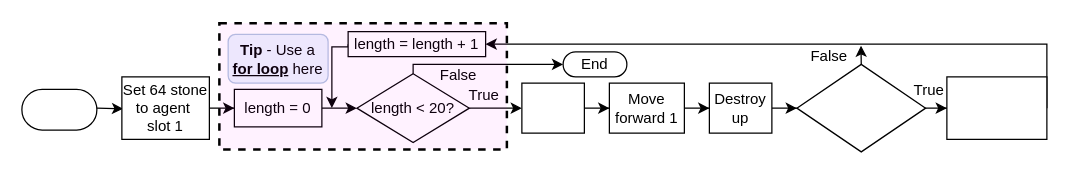
This 1079x174 diagram has some shape labels left out. The centre of each missing label's shape, as x and y in pixels:
"Destroy forward" belongs at (x=552, y=107).
"Is block below cave lava?" belongs at (x=861, y=107).
"Place (stone) forward" belongs at (x=996, y=107).
"Start" belongs at (x=59, y=109).
